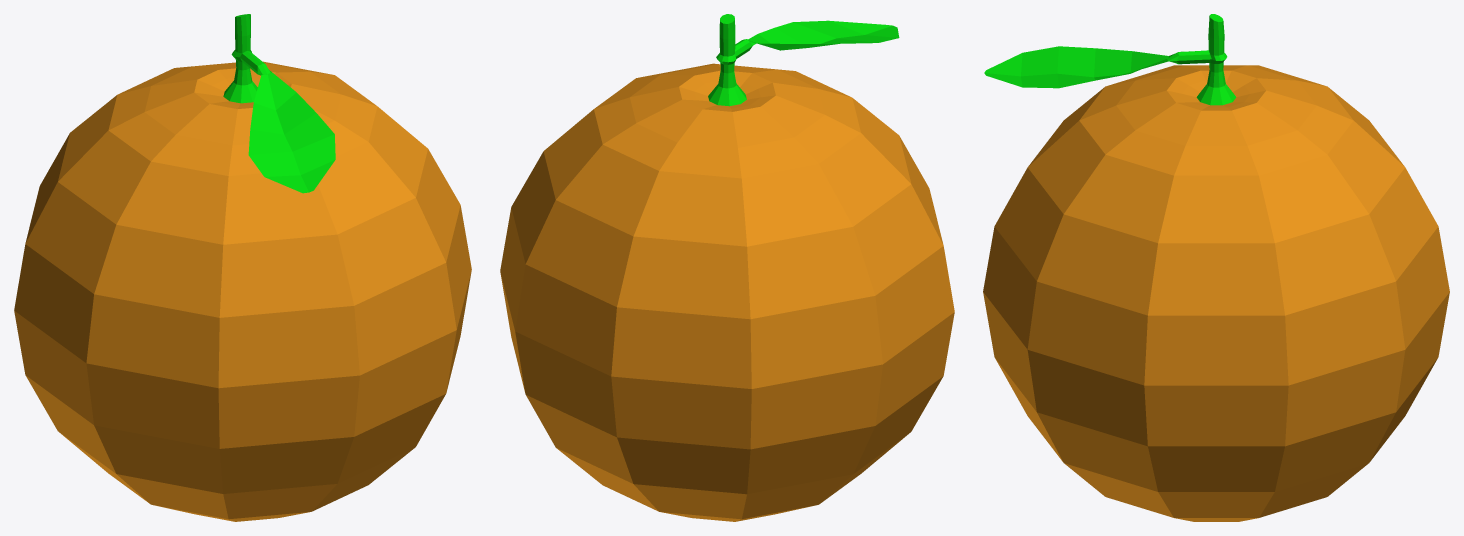
The model's file is GamesE_E03_naranja.fbx.
3 renders of one model, left to right at view 1: azimuth 30°, elevation 25°; view 2: azimuth 150°, elevation 25°; view 3: azimuth 270°, elevation 25°, orthographic.
Visible parts, largest first — view 1: Sphere; view 2: Sphere; view 3: Sphere.
Boxes of the visible parts, x1,y1,x2,y2 form: Sphere: [14, 14, 471, 521]; Sphere: [500, 14, 954, 521]; Sphere: [983, 14, 1449, 521].
Size of the model in its own units: 190 by 230 by 200.
